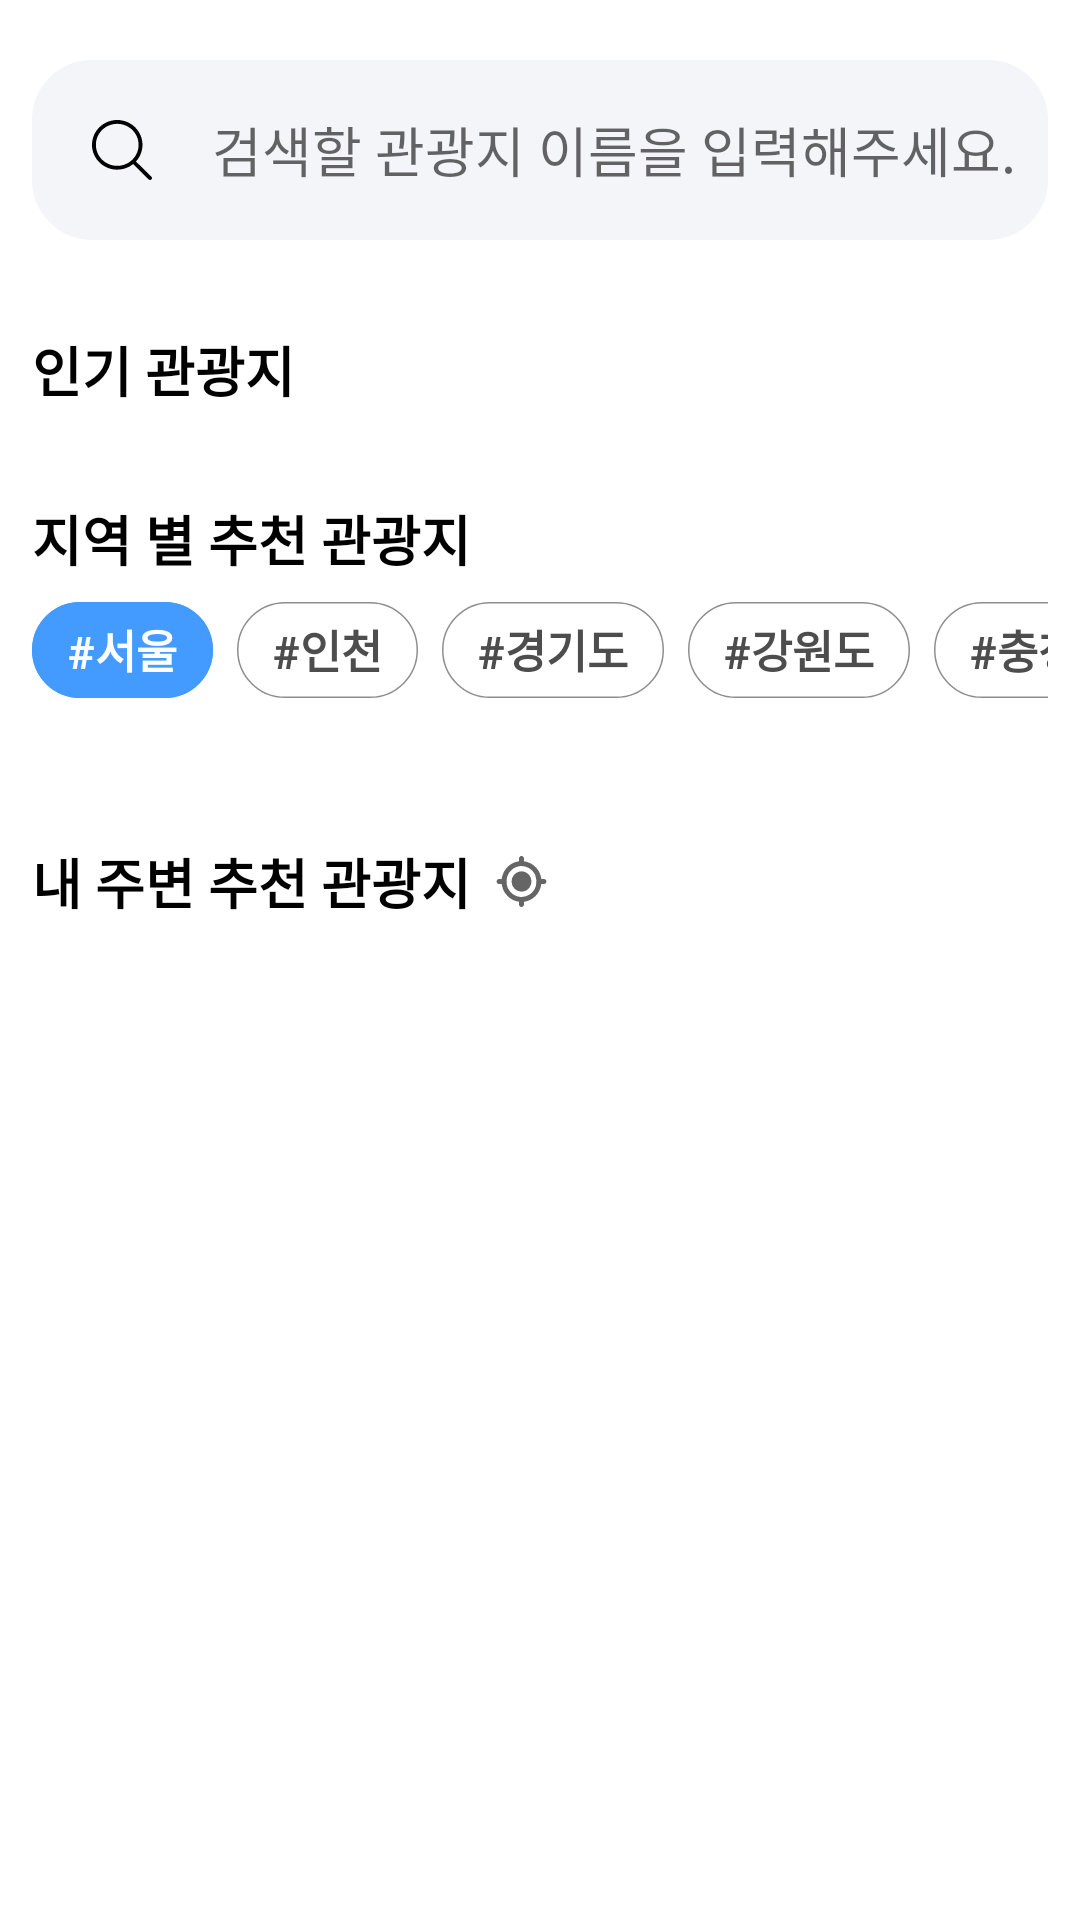

Where to tap for icons on this 1080 × 1920 app screen, as (x,y):
location: (521,881)
search: (122,150)
